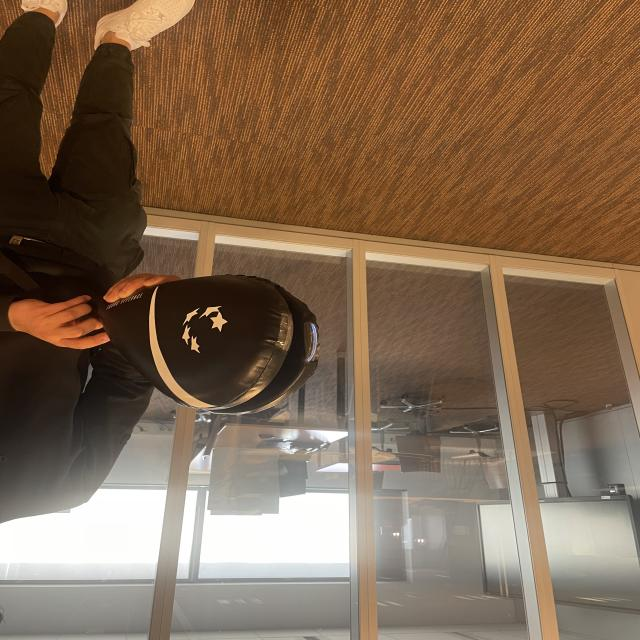paddle: (145, 274, 322, 416)
trigger: (304, 318, 322, 366)
